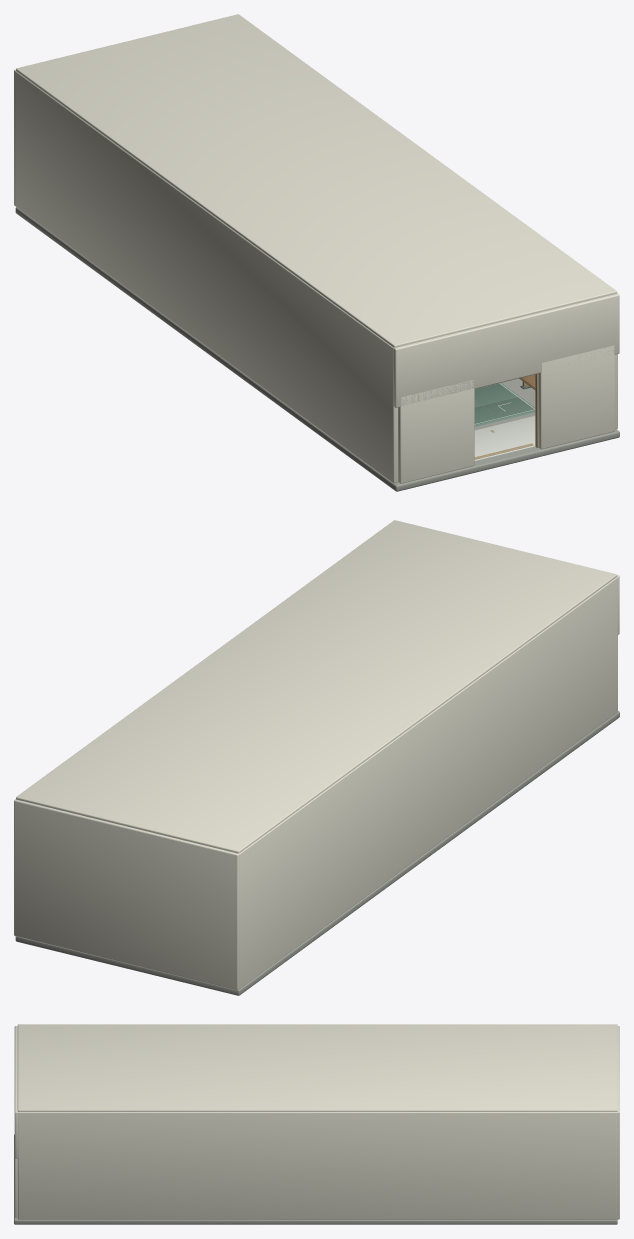
File: training_day.glb
The picture shows the model from 3 angles, top to bottom: view 1: azimuth 30°, elevation 25°; view 2: azimuth 150°, elevation 25°; view 3: azimuth 270°, elevation 25°; orthographic projection. The views are drawn at different scales.
Visible parts, largest first — view 1: TrainingHall.Warm plaster, TrainingHall.Terrazzo mineral floor, TrainingHall.Light stone, TrainingHall.Padded sage mat, TrainingHall.Padded sage alternate; view 2: TrainingHall.Warm plaster, TrainingHall.Terrazzo mineral floor; view 3: TrainingHall.Warm plaster, TrainingHall.Terrazzo mineral floor.
Part boxes in pixels (left/top/right/bottom): TrainingHall.Warm plaster: left=14, top=14, right=619, bottom=483; TrainingHall.Terrazzo mineral floor: left=15, top=207, right=619, bottom=491; TrainingHall.Light stone: left=474, top=416, right=535, bottom=460; TrainingHall.Padded sage mat: left=474, top=383, right=517, bottom=424; TrainingHall.Padded sage alternate: left=474, top=397, right=534, bottom=418; TrainingHall.Warm plaster: left=14, top=520, right=619, bottom=990; TrainingHall.Terrazzo mineral floor: left=15, top=711, right=619, bottom=995; TrainingHall.Warm plaster: left=14, top=1024, right=619, bottom=1219; TrainingHall.Terrazzo mineral floor: left=14, top=1134, right=617, bottom=1224.
Bounding box in the file's own units: 10.72 × 6.61 × 31.62.
15 materials, 4 textured.
